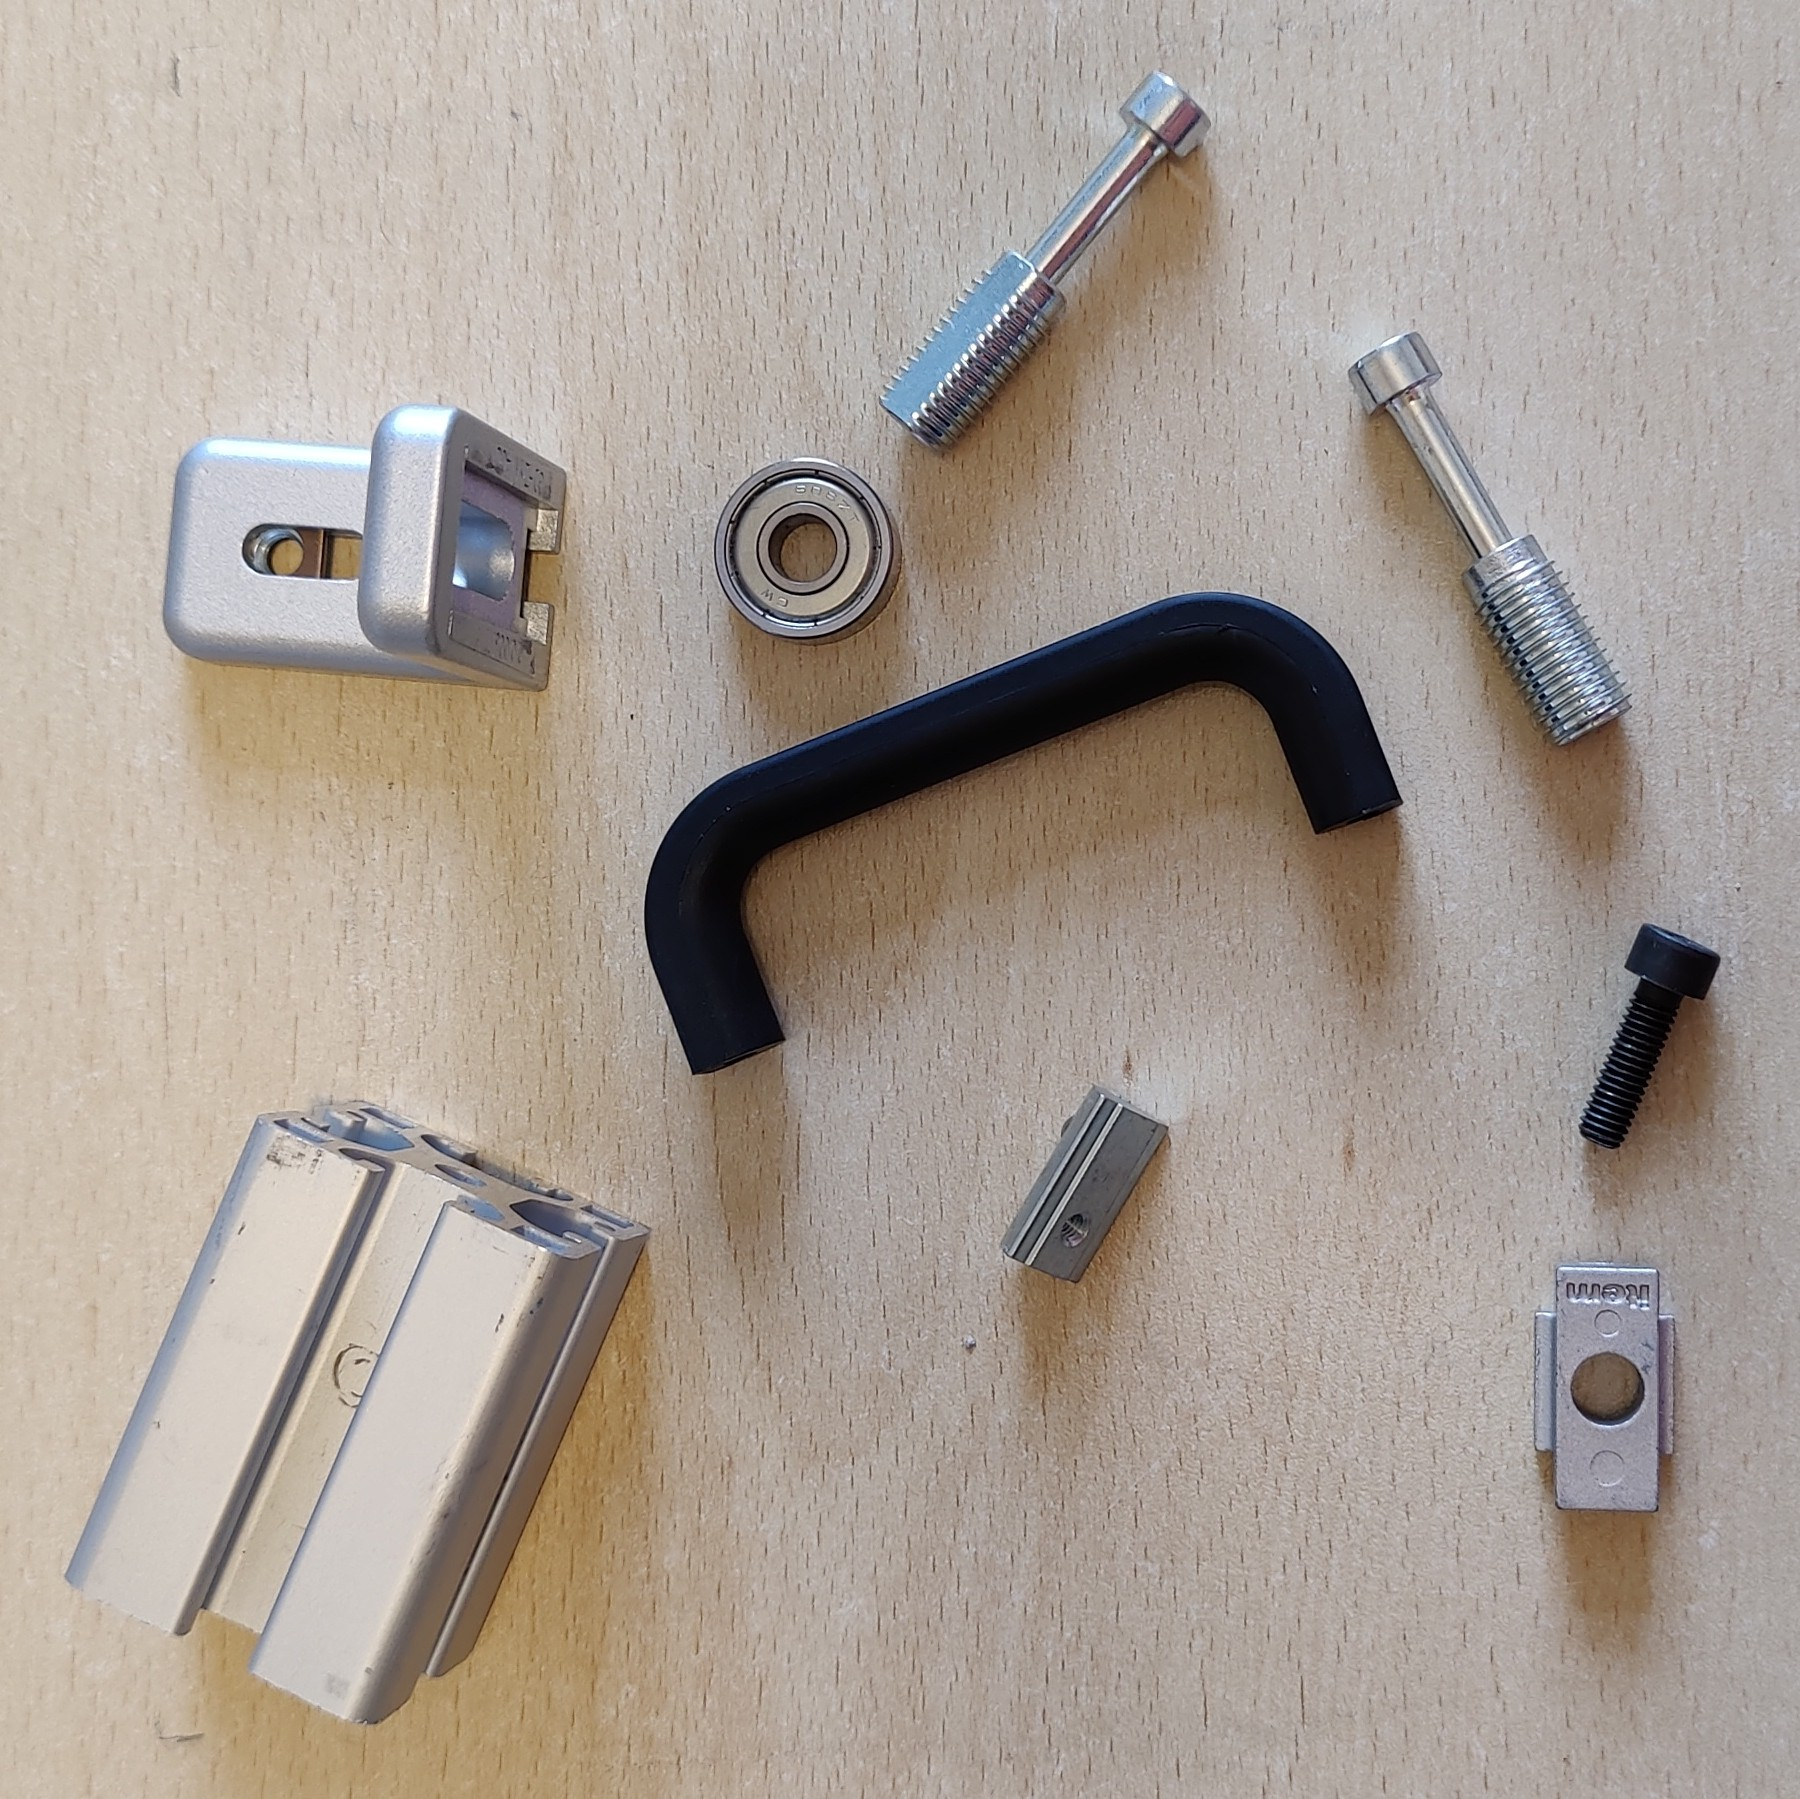Aluminium Extension: (63, 1092, 655, 1725)
Ball Bearing: (711, 451, 906, 647)
Multiwinkel: (161, 402, 567, 694)
Pull Handle: (642, 588, 1406, 1077)
Shoulder Socket Head Cap Screw: (874, 68, 1210, 460), (1342, 326, 1635, 750)
Socket Head Cap Screw: (1578, 918, 1724, 1150)
T Nut Square: (1528, 1257, 1681, 1516)
T Spring Nut: (998, 1077, 1174, 1285)
